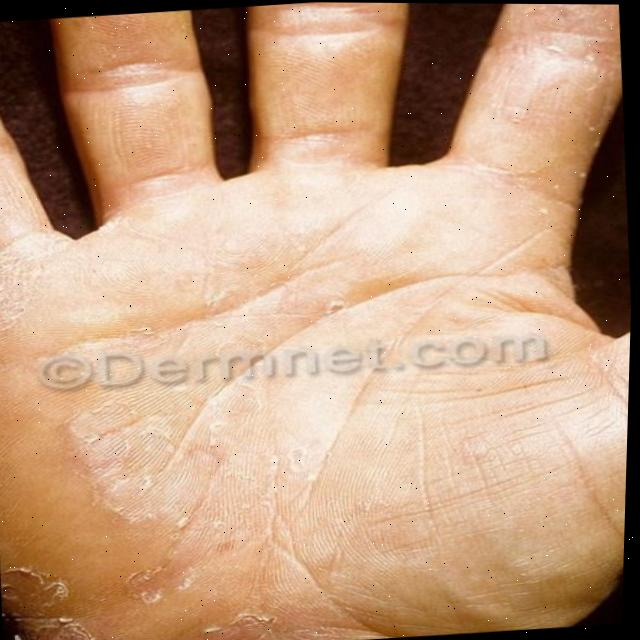Eczema: (0, 209, 401, 640)
